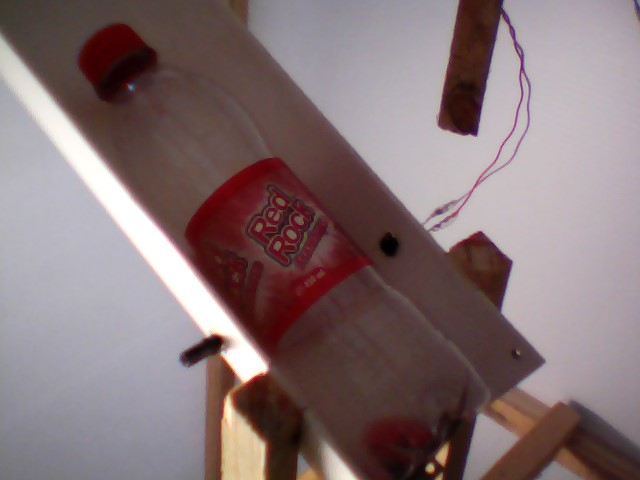plastico: (61, 17, 497, 480)
